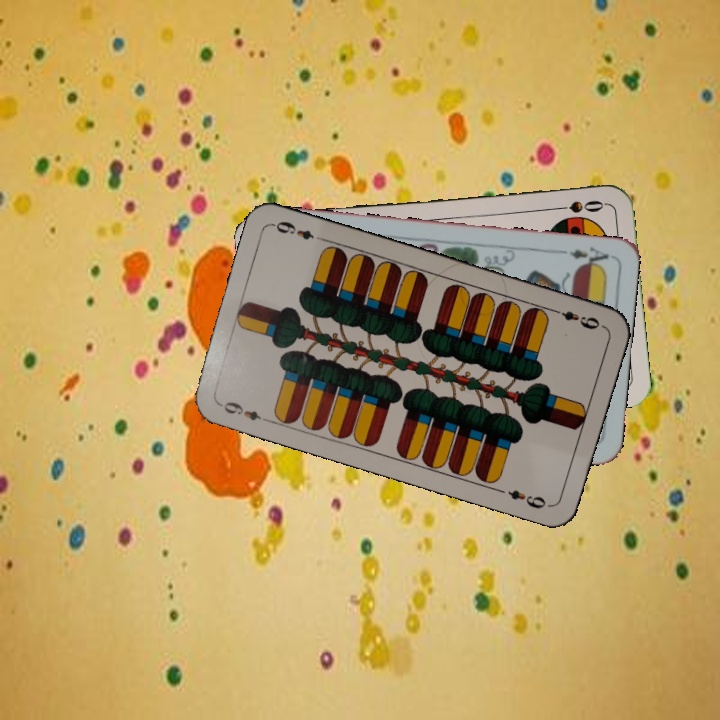E9: (215, 397, 273, 426), (548, 304, 603, 332)
EA: (554, 243, 611, 270)
SO: (548, 196, 607, 216)
